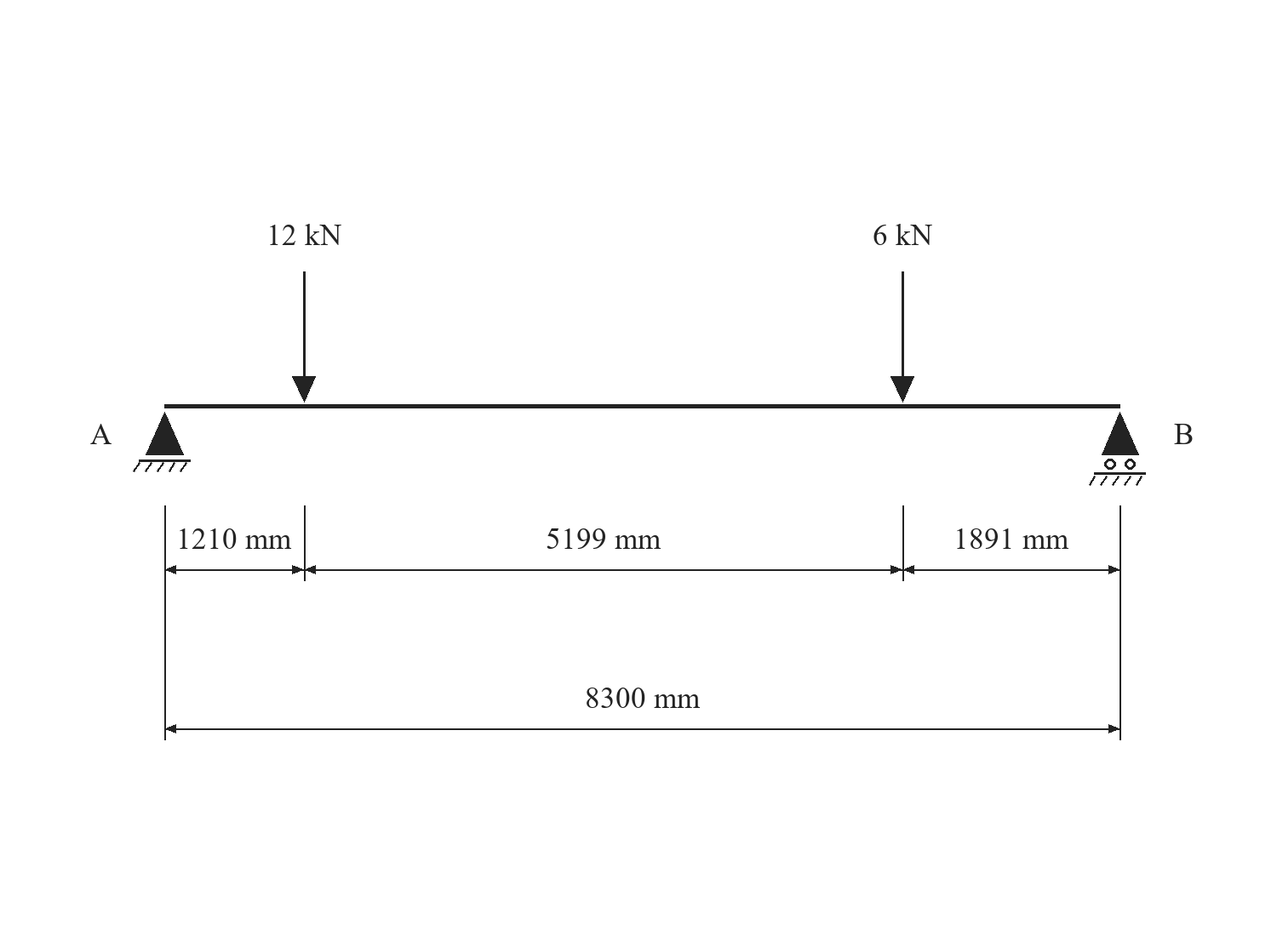pin_support: (133, 412, 191, 472)
point_load: (292, 271, 316, 402), (890, 271, 914, 402)
roller_support: (1089, 412, 1146, 486)
